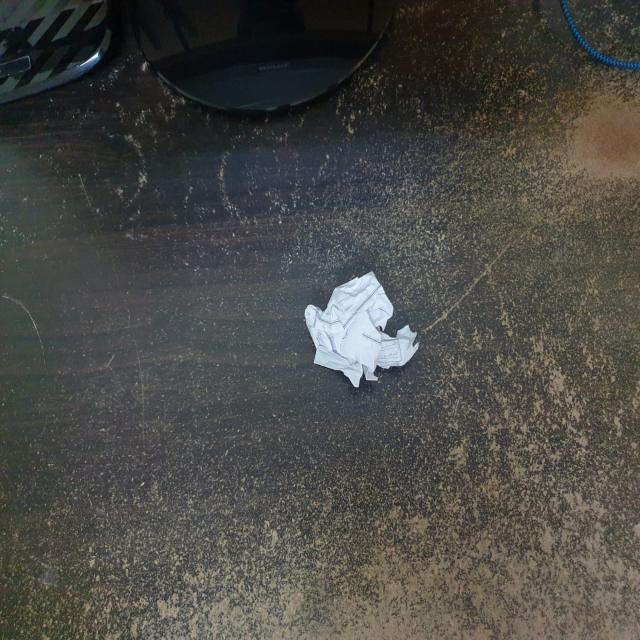Paper: (306, 272, 417, 391)
